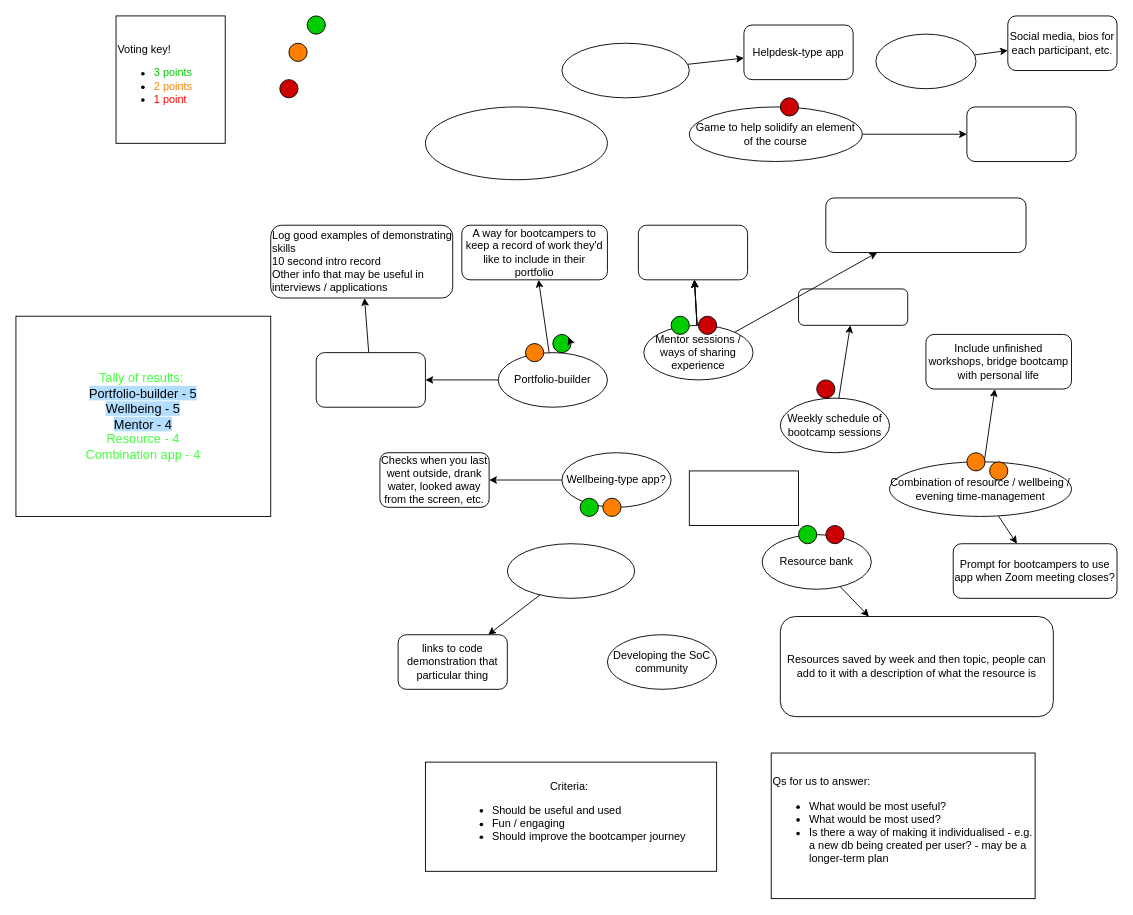
The diagram is 1133 pixels wide and 915 high, and some of its shapes have lost their labels. Each missing label, with the centre of its shape:
"Careers / job application portal" belongs at point 370,379.
"Dictionary / glossary of key words/ concepts" belongs at point 570,570.
"e.g. Codewars task, the Detective activity" belongs at point 1021,134.
"Ideas brainstorm" belongs at point 743,498.
"Intranet-style platform" belongs at point 925,61.
"Settling in time / activities / guidance?" belongs at point 692,252.
"Skills match and chat service" belongs at point 625,70.
"Some sort of structure / how to make the most of mentor sessions" belongs at point 925,225.
"Something to support reflection / follow-up of forms, feedback, quizzes, etc." belongs at point 516,143.
"To be completed by coaches?" belongs at point 853,306.
